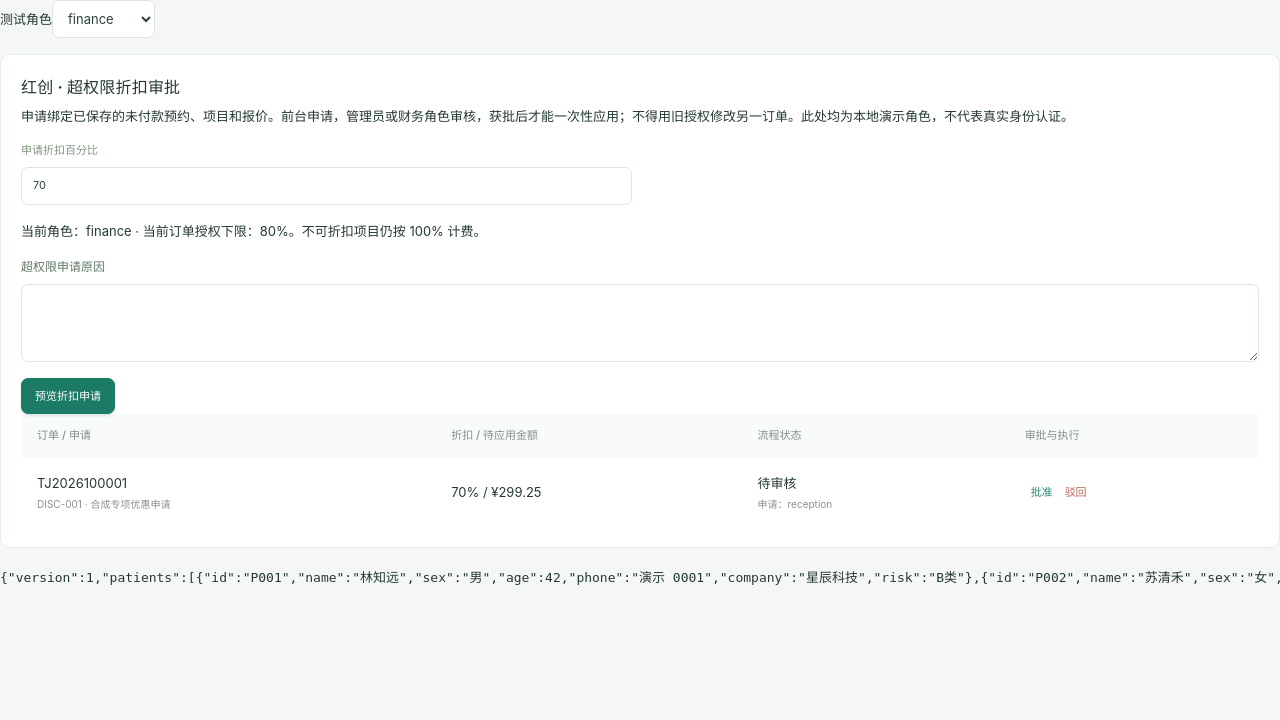
Test: bound one-time discount approval › DA10 / T0109 UI rejection cancellation does not decide; confirmed reason is displayed
The width and height of the screenshot is (1280, 720).
Click the button with aria-label "驳回折扣 DISC-001".
click(1076, 493)  # box top-left (1059, 481), bottom-right (1093, 504)
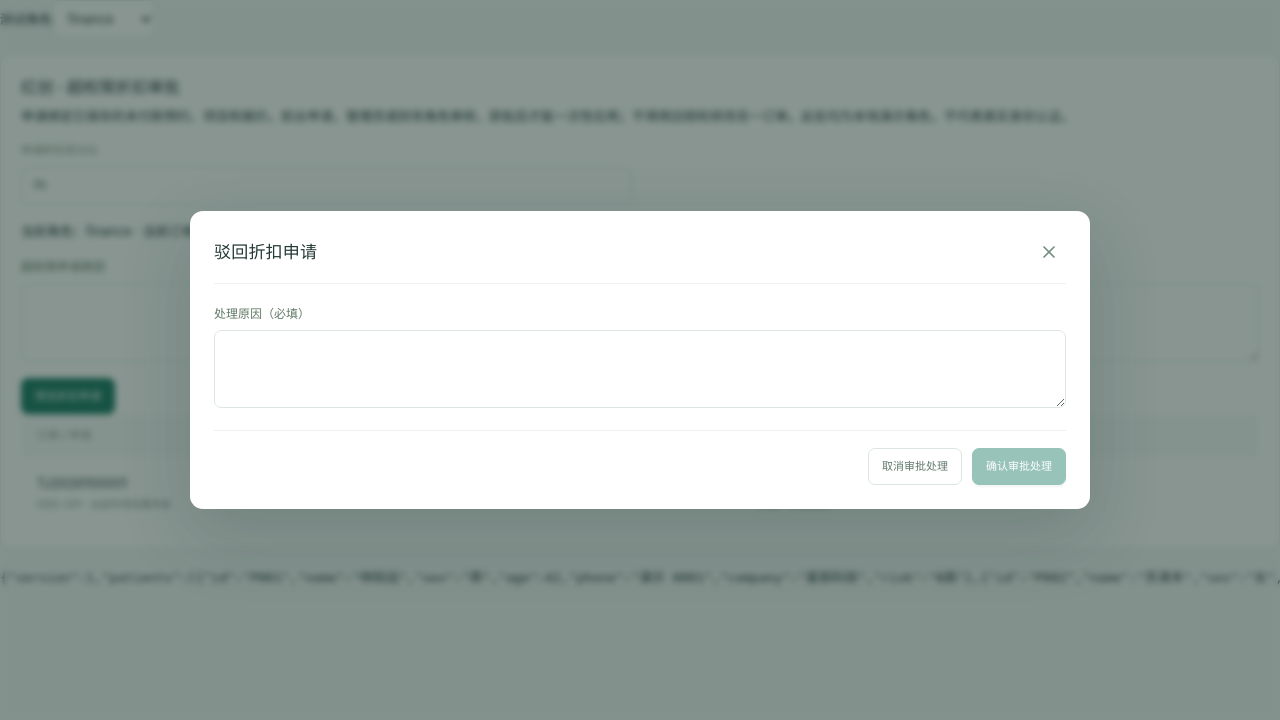
Type "合成拒绝原因" into the text box named "折扣审批处理原因".
click(640, 369); type("合成拒绝原因")  # box top-left (214, 330), bottom-right (1066, 408)
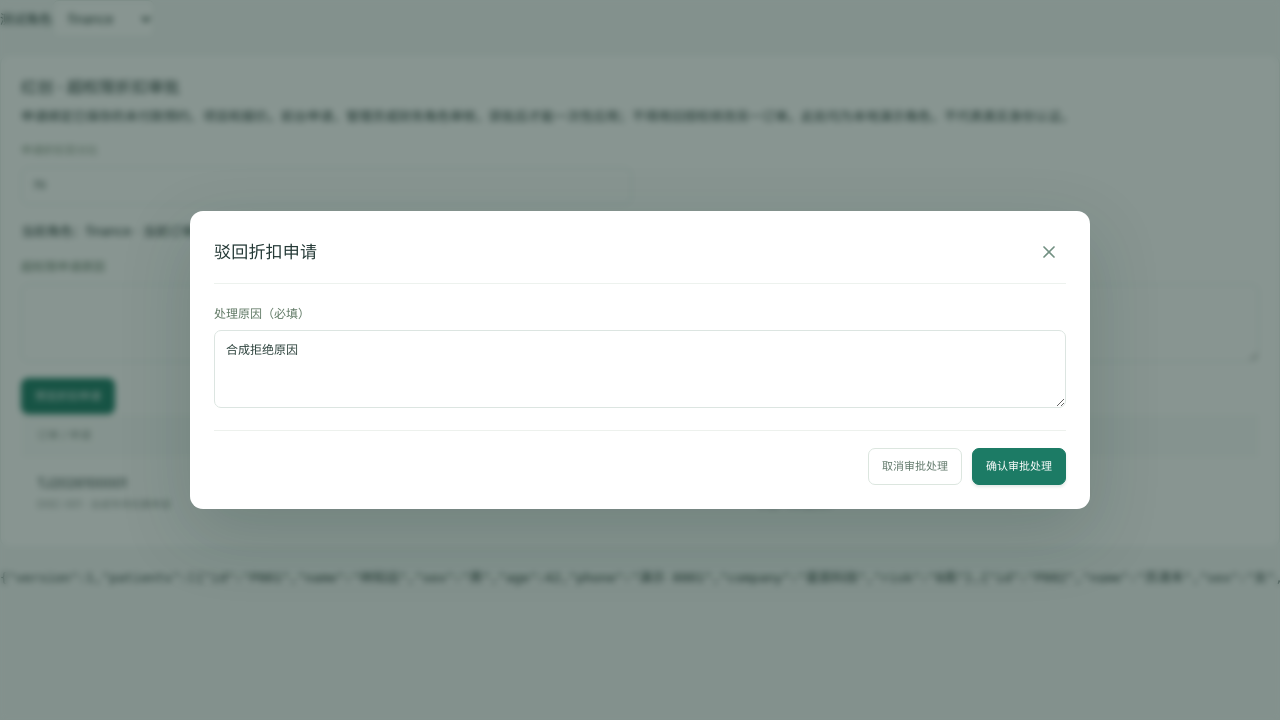
Click the button "取消审批处理".
click(915, 467)  # box top-left (868, 448), bottom-right (962, 485)
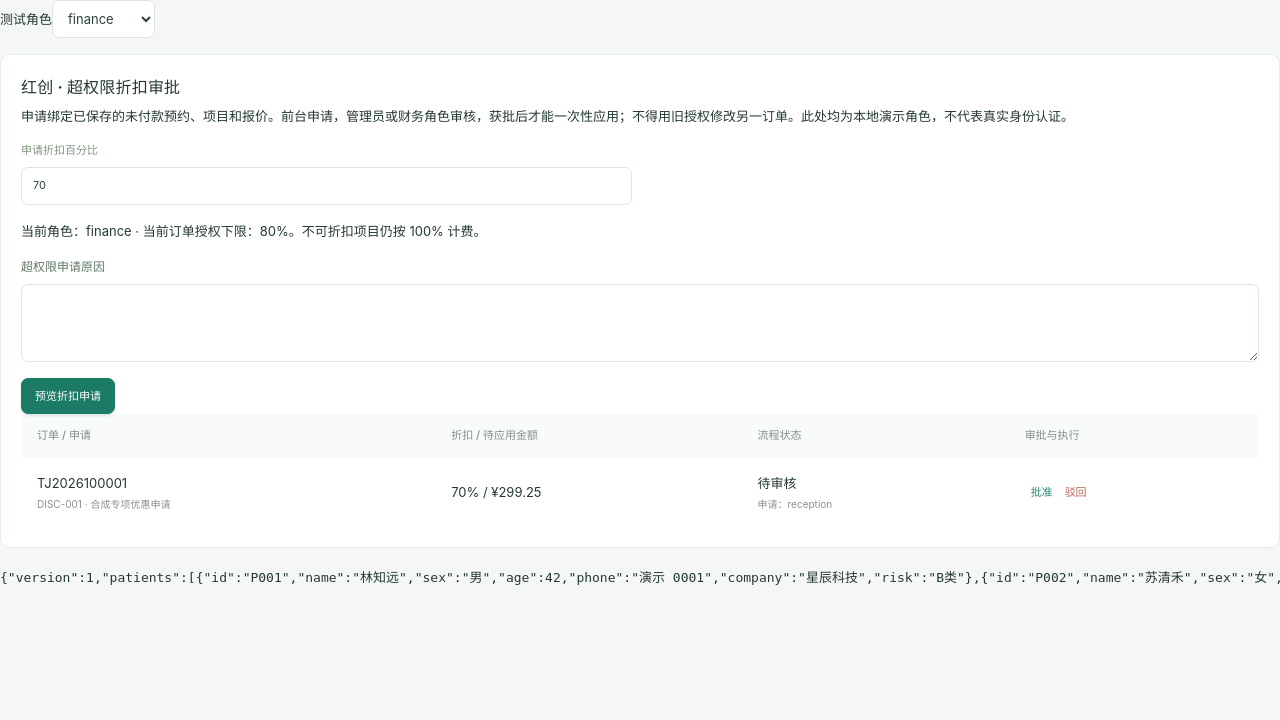
Click the button with aria-label "驳回折扣 DISC-001".
click(1076, 493)  # box top-left (1059, 481), bottom-right (1093, 504)
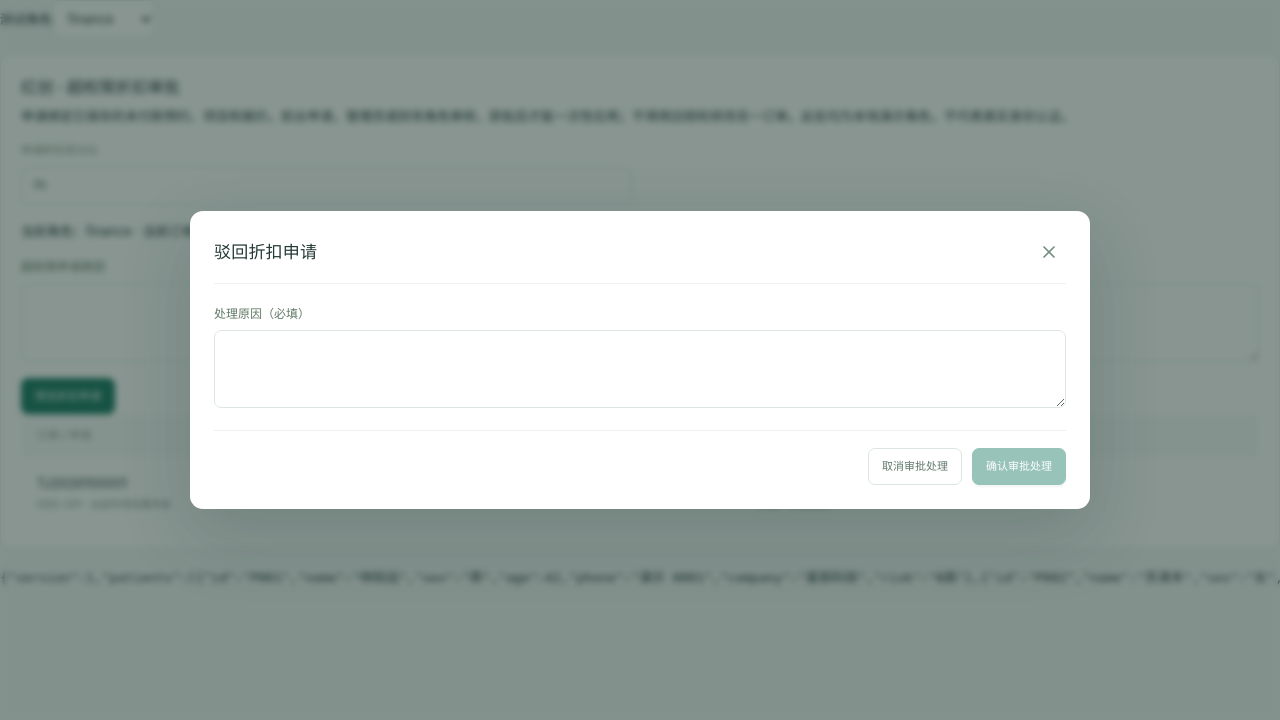
Type "合成拒绝原因" into the text box named "折扣审批处理原因".
click(640, 369); type("合成拒绝原因")  # box top-left (214, 330), bottom-right (1066, 408)
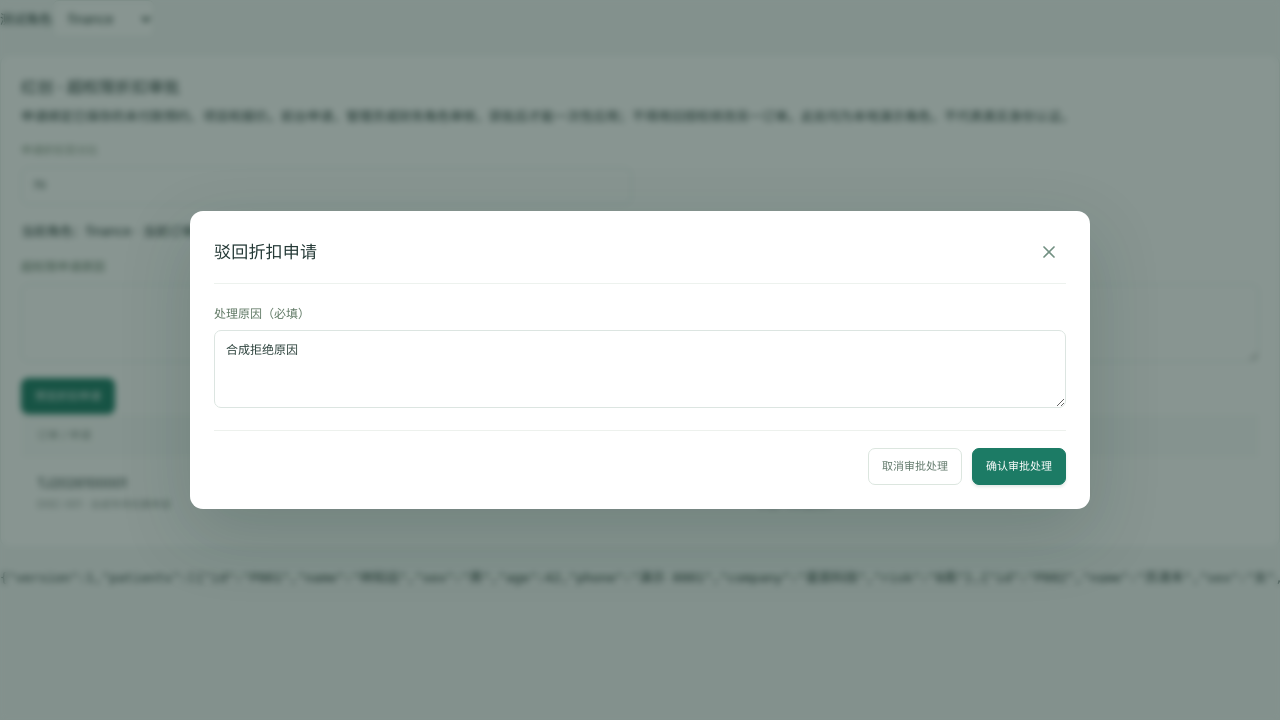
Click the button "确认审批处理".
click(1019, 467)  # box top-left (972, 448), bottom-right (1066, 485)
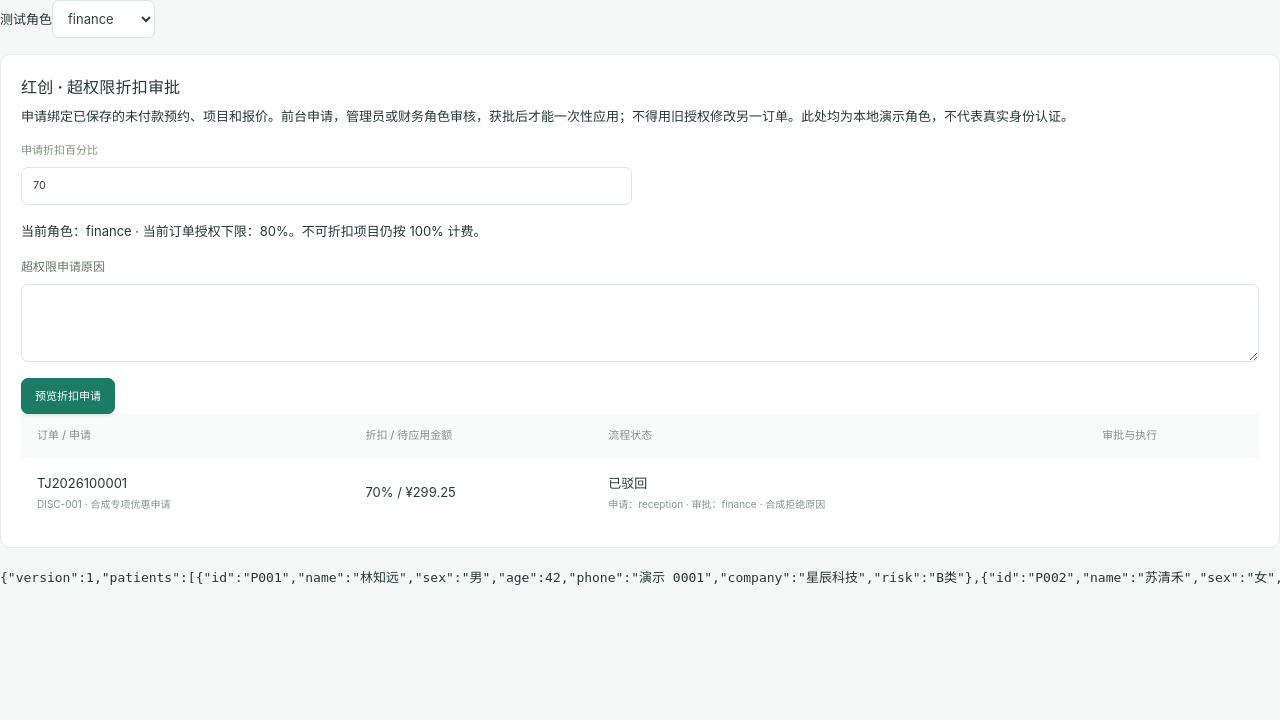
Result: the table named "折扣审批记录" shows "已驳回" at top-left (608, 475), bottom-right (647, 491)
Result: the table named "折扣审批记录" shows "合成拒绝原因" at top-left (757, 498), bottom-right (825, 510)
